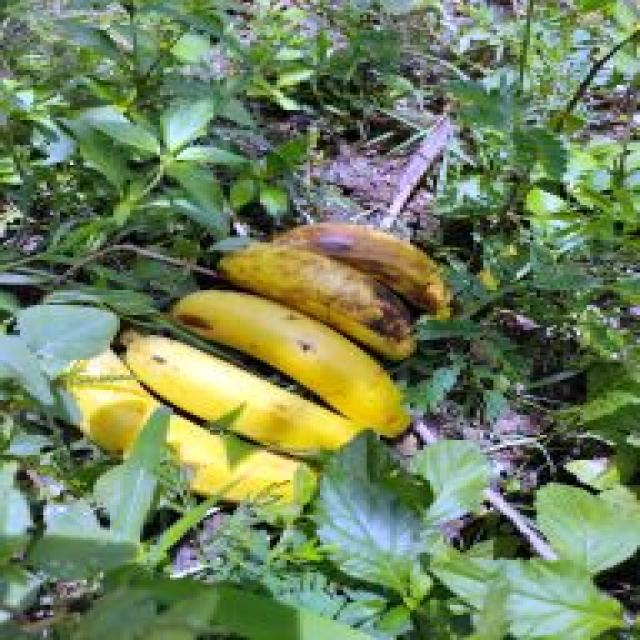Organik: (63, 375, 321, 531), (106, 318, 363, 462), (166, 291, 417, 431), (208, 244, 415, 348), (268, 215, 494, 303)
